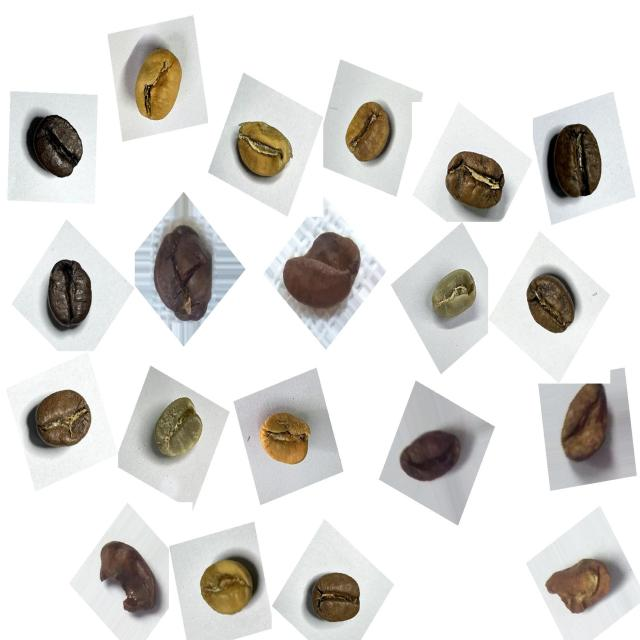bad: (144, 215, 230, 333), (278, 220, 371, 327), (94, 531, 168, 626), (540, 544, 622, 626), (548, 377, 617, 474), (393, 414, 471, 496)
dark: (17, 101, 91, 191), (37, 251, 106, 342)
green: (142, 384, 214, 473), (419, 258, 486, 334)
light: (123, 36, 194, 135), (190, 542, 264, 629), (228, 107, 302, 192), (335, 91, 403, 176), (252, 403, 322, 480)
medium: (536, 116, 615, 211), (24, 380, 102, 462), (435, 140, 513, 221), (516, 268, 586, 349), (302, 564, 371, 638)
